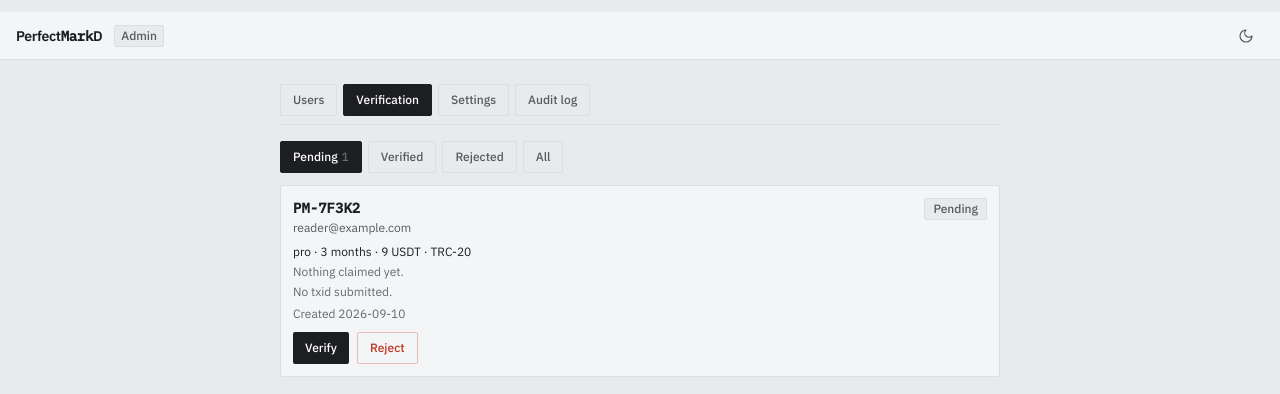
Test: shows the Verification queue to the admin, with the audit log a tab away
Expected: the list item with test id "admin-order-row" is shown, [280,185,1000,377]
Click the tab with test id "admin-tab-audit" at point(553, 100), box [515,84,590,116]
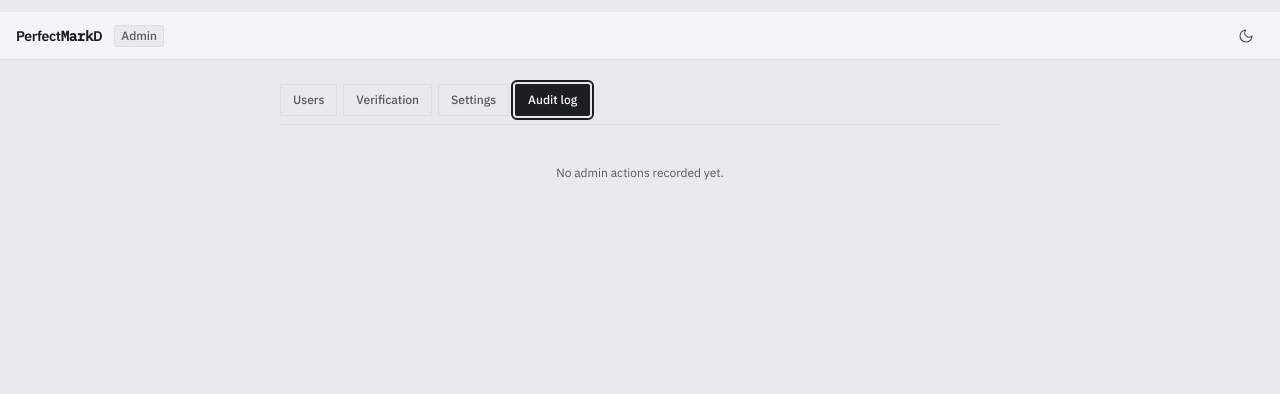
Result: the text "No admin actions recorded yet." is shown at [556,165,724,180]
Result: the list item with test id "admin-order-row" is gone
